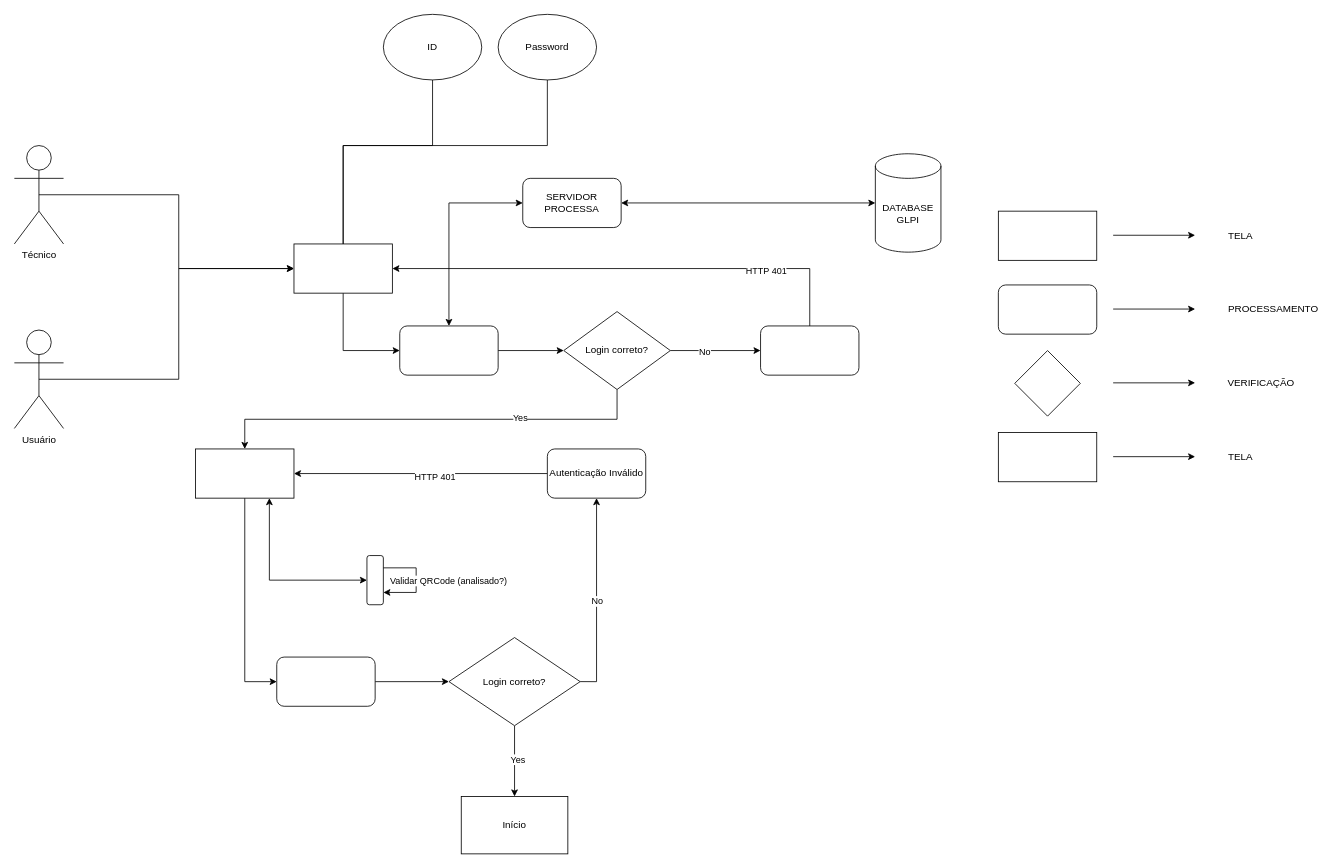
The diagram is 1341 pixels wide and 868 high, and some of its shapes have lost their labels. The shapes that lost their labels are listed below. From the top down, each one's box as (x1, y1, x2, y2) in pixels, then its label:
(293, 243, 392, 293): Tela de Login
(399, 325, 498, 375): Nome/Senha
(760, 325, 859, 375): Login Inválido
(195, 448, 294, 498): Tela de 2FA
(276, 656, 375, 706): Código de Autenticação
